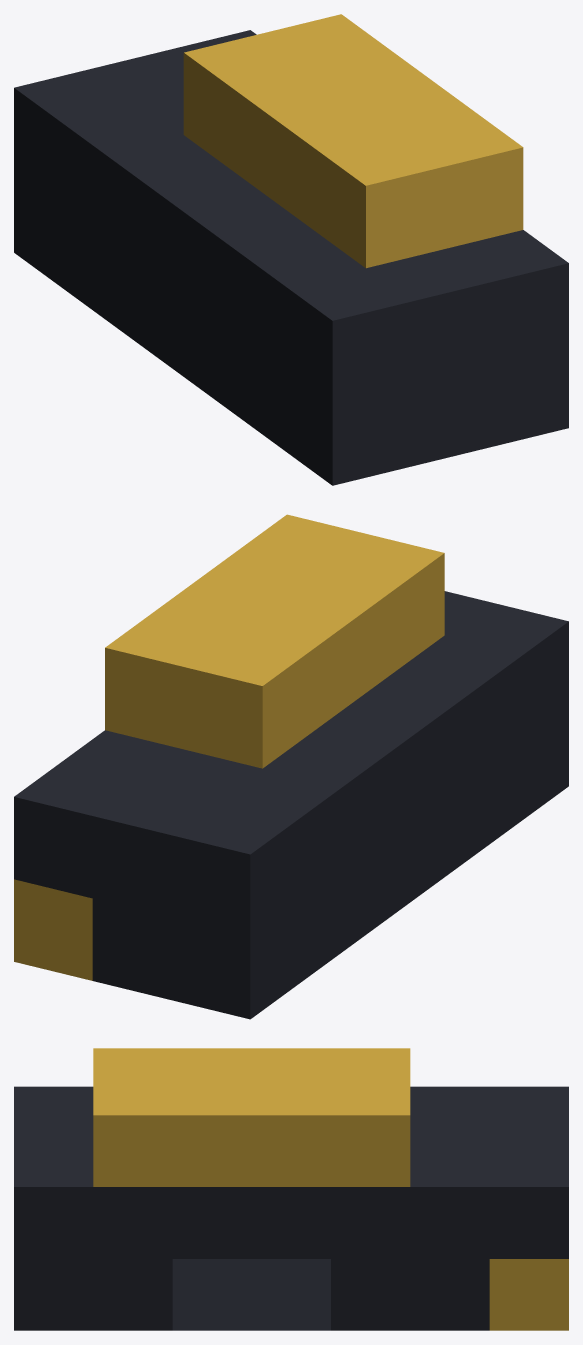
The model's file is scale_legendary_boot_foot_L_lod1.glb.
3 renders of one model, top to bottom at view 1: azimuth 30°, elevation 25°; view 2: azimuth 150°, elevation 25°; view 3: azimuth 270°, elevation 25°, orthographic. The views are drawn at different scales.
Parts seen in each view (by area): view 1: scale_legendary_boot_foot_L_lod1; view 2: scale_legendary_boot_foot_L_lod1; view 3: scale_legendary_boot_foot_L_lod1.
Boxes of the visible parts, x1,y1,x2,y2 form: scale_legendary_boot_foot_L_lod1: (14, 14, 568, 485); scale_legendary_boot_foot_L_lod1: (14, 514, 568, 1019); scale_legendary_boot_foot_L_lod1: (14, 1048, 568, 1330).
Bounding box in the file's own units: 0.144 × 0.144 × 0.336.
